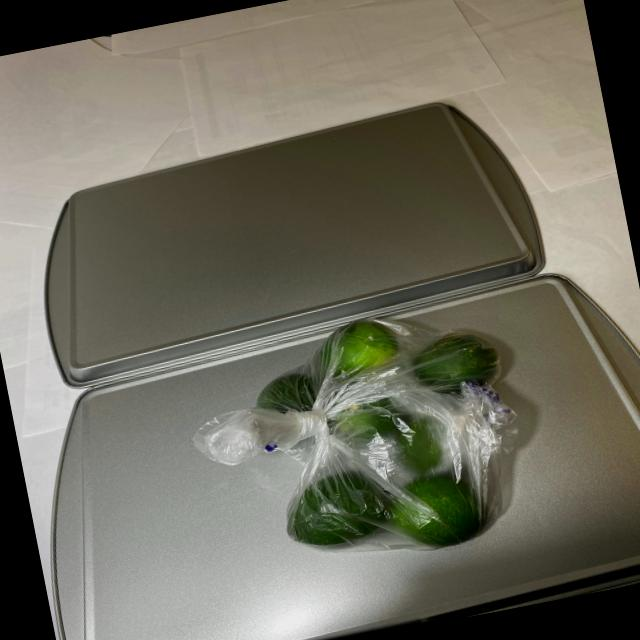lemon: (232, 296, 542, 572)
